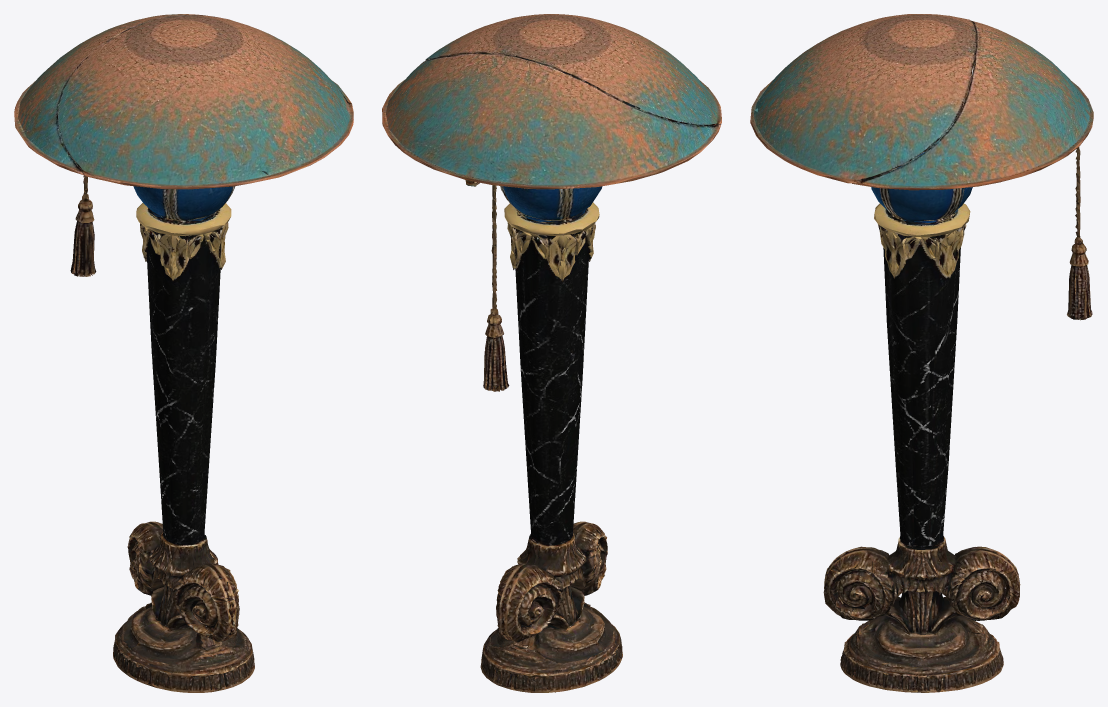
Rendered from HY-00_lamp_game.glb.
3 views of the same model, side by side, from view 1: azimuth 30°, elevation 25°; view 2: azimuth 150°, elevation 25°; view 3: azimuth 270°, elevation 25° (orthographic).
Visible parts, largest first — view 1: HY-00_lamp; view 2: HY-00_lamp; view 3: HY-00_lamp.
Part boxes in pixels (box(x1,y1,x2,y2)): HY-00_lamp: box(14, 14, 353, 692); HY-00_lamp: box(382, 14, 721, 692); HY-00_lamp: box(750, 14, 1093, 692).
Size of the model in its own units: 0.2898 by 0.6 by 0.2896.
1 material, 1 textured.
